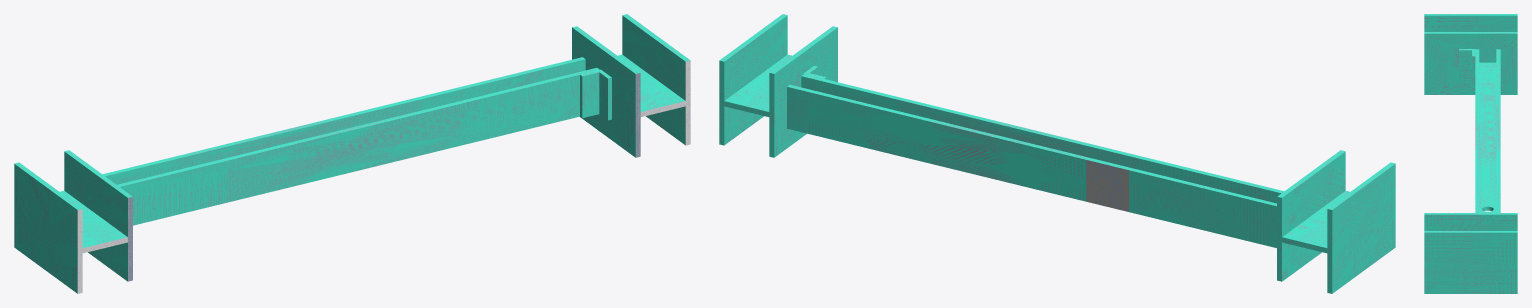
The model's file is Beam.obj.
The picture shows the model from 3 angles, left to right: view 1: azimuth 30°, elevation 25°; view 2: azimuth 150°, elevation 25°; view 3: azimuth 270°, elevation 25°; orthographic projection. The views are drawn at different scales.
Visible parts, largest first — view 1: Mesh1 Model; view 2: Mesh1 Model; view 3: Mesh1 Model.
Part boxes in pixels (<box>): Mesh1 Model: <box>14,14,690,293</box>; Mesh1 Model: <box>719,14,1395,293</box>; Mesh1 Model: <box>1424,14,1517,293</box>.
Bounding box in the file's own units: 1224 × 160 × 220.
